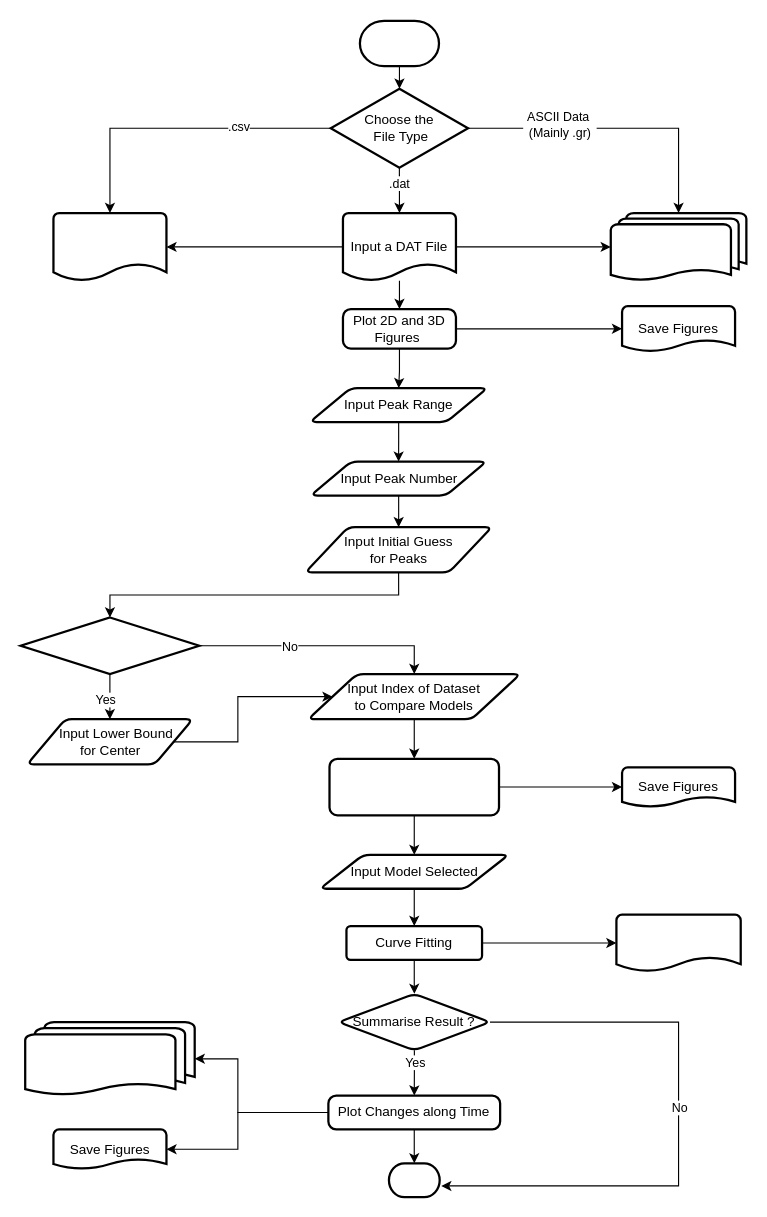
Some shapes in this 767 by 1217 pixel diagram are drawn without their labels. Each missing label, with the box of its shape:
End: (387, 1162, 440, 1198)
Input a CSV File: (52, 211, 167, 281)
Input a Directory to ASCII files: (609, 211, 747, 281)
Plot Figures for Comparison Results: (328, 757, 500, 816)
Save Figures for Fitting Results: (615, 913, 741, 972)
Save Parameters of Peaks to CSV Files (A file for a peak. ): (24, 1020, 195, 1096)
Set Lower Bound for Center ?: (19, 616, 200, 675)
Start: (358, 19, 440, 67)
